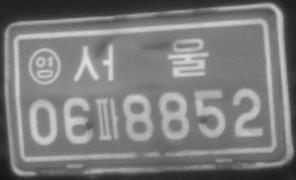0: (29, 98, 58, 146)
2: (231, 87, 264, 138)
5: (193, 88, 227, 138)
6: (62, 96, 93, 144)
8: (157, 91, 190, 141), (122, 92, 154, 142)
서울_D: (72, 36, 209, 82)
영: (27, 47, 61, 85)
파: (94, 96, 120, 140)
